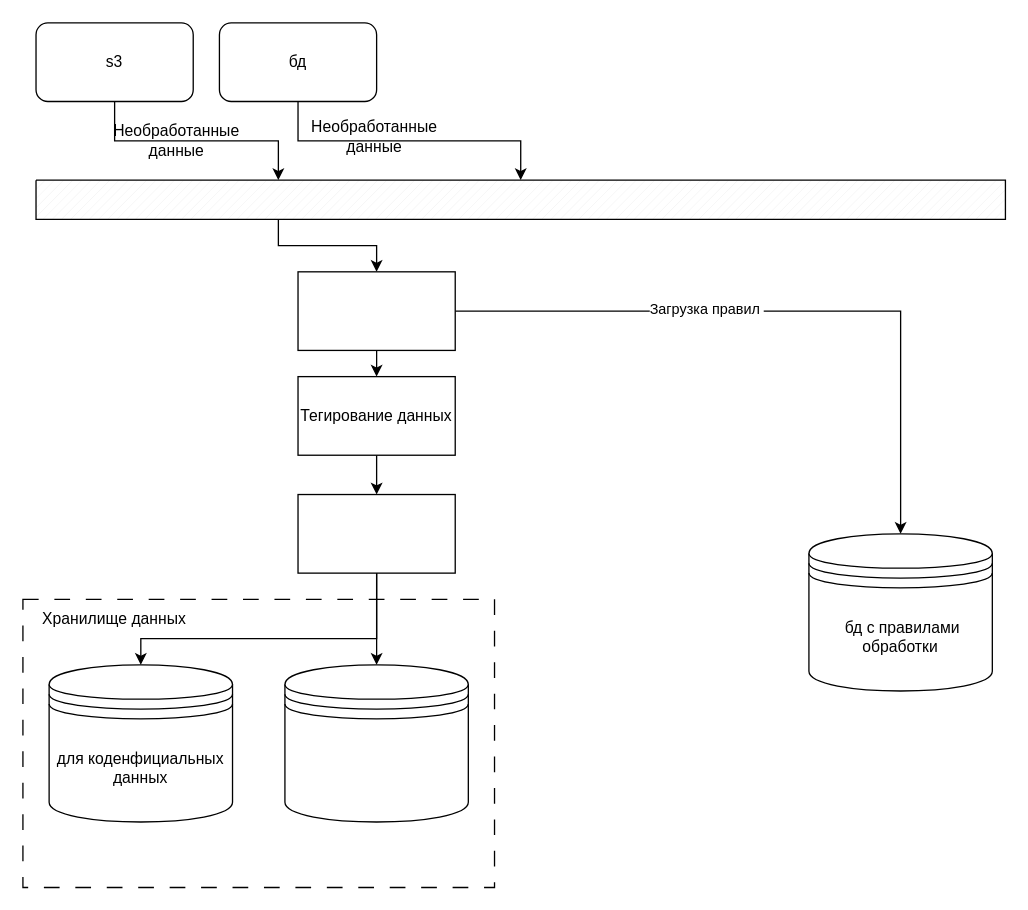
Image size: 1028x910. Some labels were removed from this diagram. The centre of each missing label's shape, as x and y in pixels:
Connector: (520,199)
Обработка на основе правил: (376,310)
Определение в какое хранилище отправить: (376,533)
